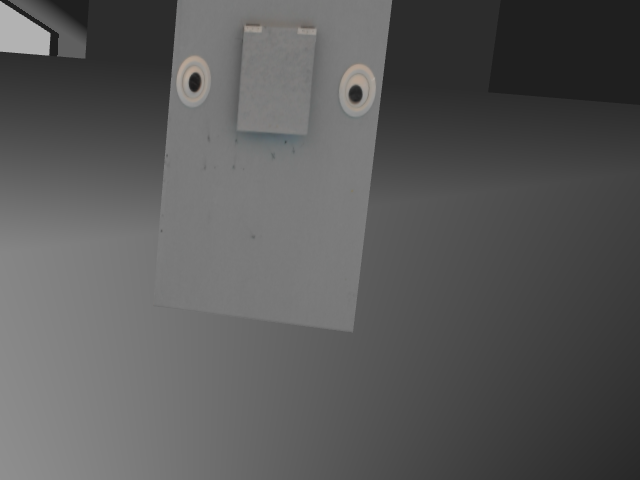facade: (174, 20, 377, 139)
